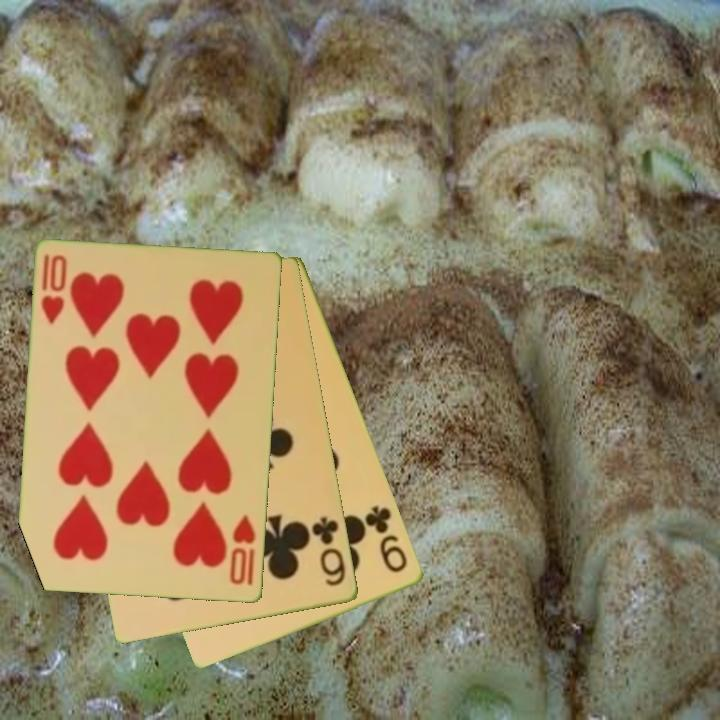10h: (226, 512, 259, 588), (38, 251, 70, 327)
6c: (309, 513, 349, 590)
9c: (362, 502, 411, 576)
